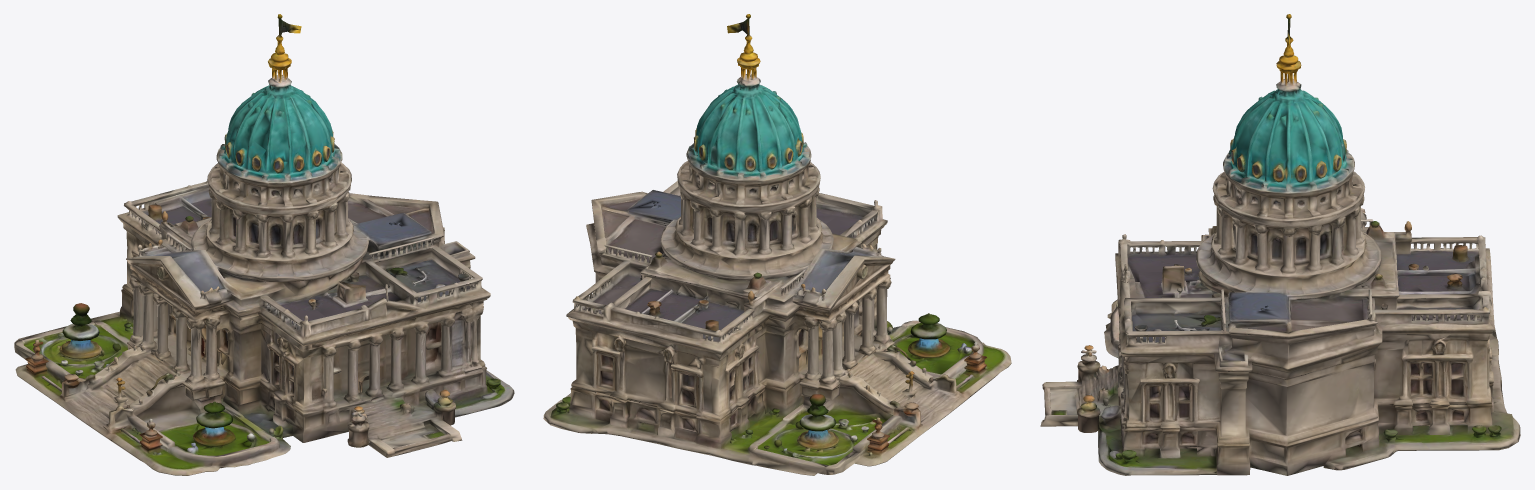
Rendered from city_capital.glb.
The picture shows the model from 3 angles, left to right: view 1: azimuth 30°, elevation 25°; view 2: azimuth 150°, elevation 25°; view 3: azimuth 270°, elevation 25°; orthographic projection. The views are drawn at different scales.
Parts seen in each view (by area): view 1: tripo_node_03921df1-1083-479e-90c3-2ae15ac1d87d; view 2: tripo_node_03921df1-1083-479e-90c3-2ae15ac1d87d; view 3: tripo_node_03921df1-1083-479e-90c3-2ae15ac1d87d.
Part boxes in pixels (bbox=[...]): tripo_node_03921df1-1083-479e-90c3-2ae15ac1d87d: bbox=[14, 14, 514, 475]; tripo_node_03921df1-1083-479e-90c3-2ae15ac1d87d: bbox=[543, 14, 1011, 475]; tripo_node_03921df1-1083-479e-90c3-2ae15ac1d87d: bbox=[1040, 14, 1520, 475].
Bounding box in the file's own units: 0.915 × 0.858 × 0.9814.
Materials: 1 (1 with a texture image).
